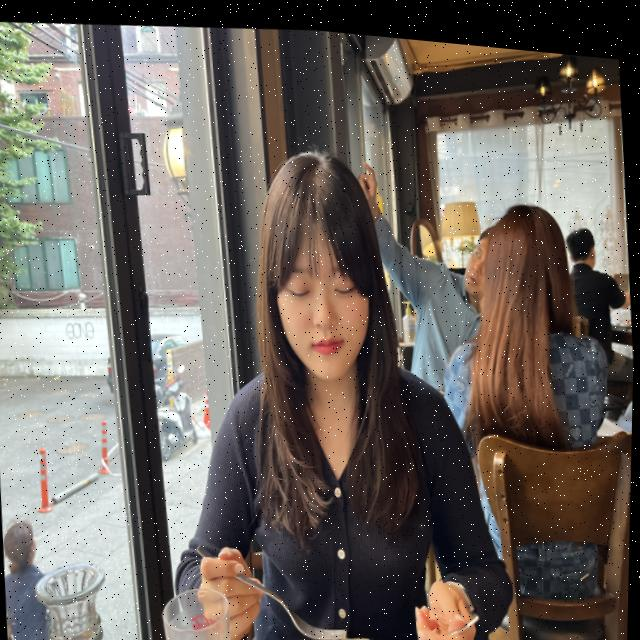eating-person: (129, 91, 535, 640)
